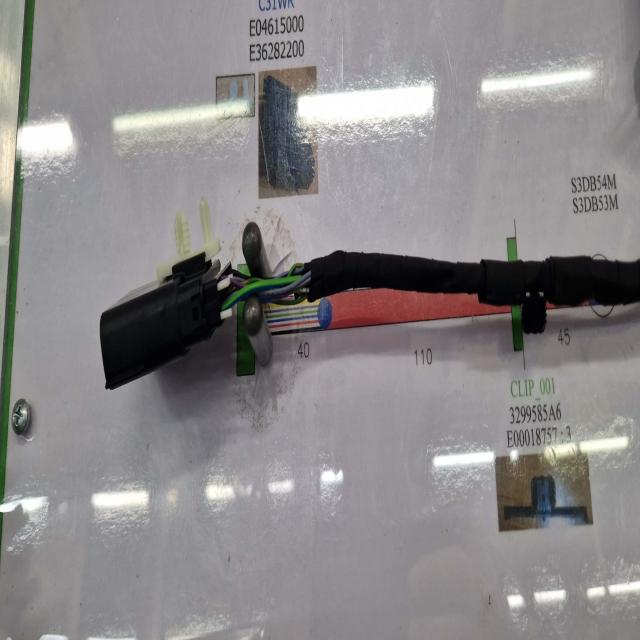Clip: (521, 291, 546, 333)
Connector: (98, 253, 222, 388)
Gape: (227, 252, 317, 311)
MHEV_N11_Cable: (301, 249, 640, 336)
